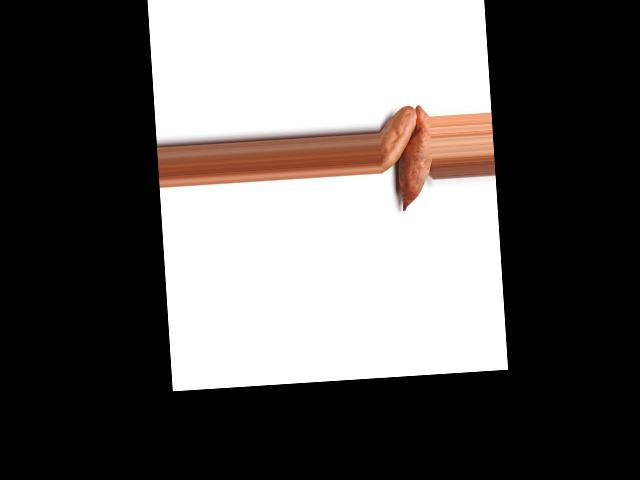sweet_potato: (377, 105, 419, 177)
